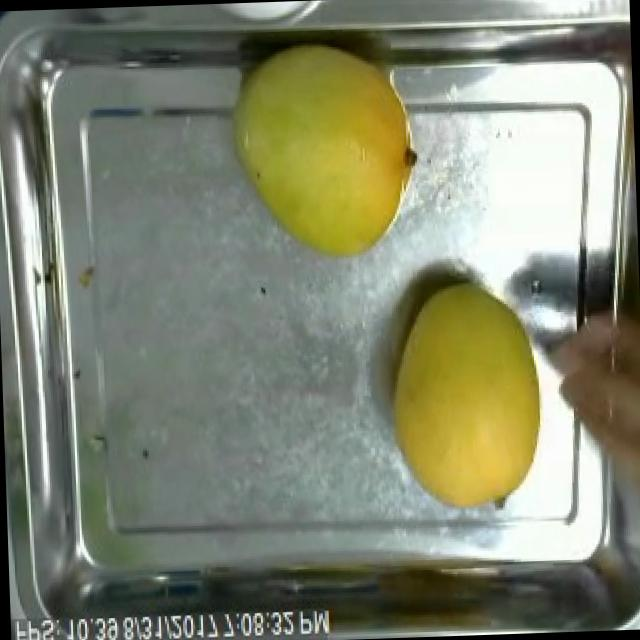fruit: (216, 29, 430, 274), (370, 262, 557, 524), (547, 294, 640, 540)
